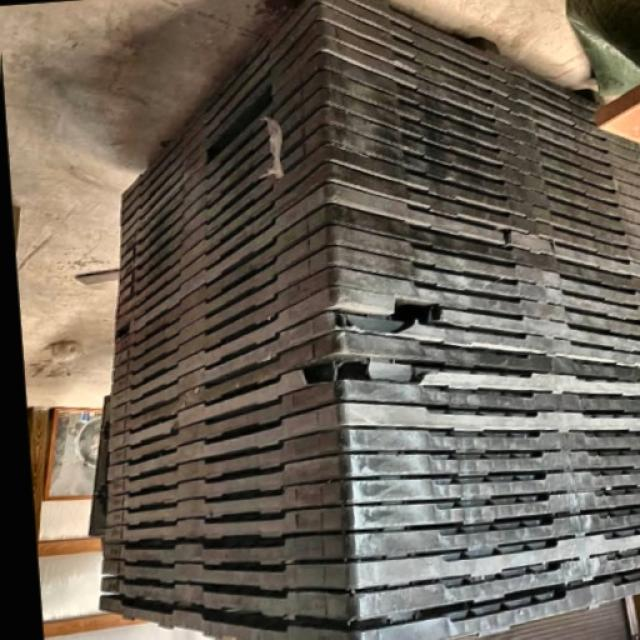non-igps: (112, 0, 640, 231), (116, 11, 640, 243), (115, 28, 640, 246), (116, 62, 640, 274), (113, 95, 640, 305), (111, 133, 640, 330), (113, 113, 640, 310), (109, 150, 640, 340), (105, 274, 640, 437), (109, 255, 640, 419), (102, 273, 640, 433), (111, 173, 640, 335), (108, 194, 640, 355), (107, 214, 640, 373), (108, 238, 640, 392), (103, 295, 640, 445), (103, 295, 640, 435), (105, 319, 640, 447), (103, 343, 640, 459), (106, 370, 640, 476), (102, 389, 640, 490), (96, 545, 640, 638), (104, 415, 640, 504), (97, 520, 640, 599), (95, 562, 640, 640), (102, 442, 640, 518), (100, 459, 640, 534), (321, 0, 603, 132), (96, 484, 640, 552), (97, 500, 640, 565), (342, 0, 606, 119)
